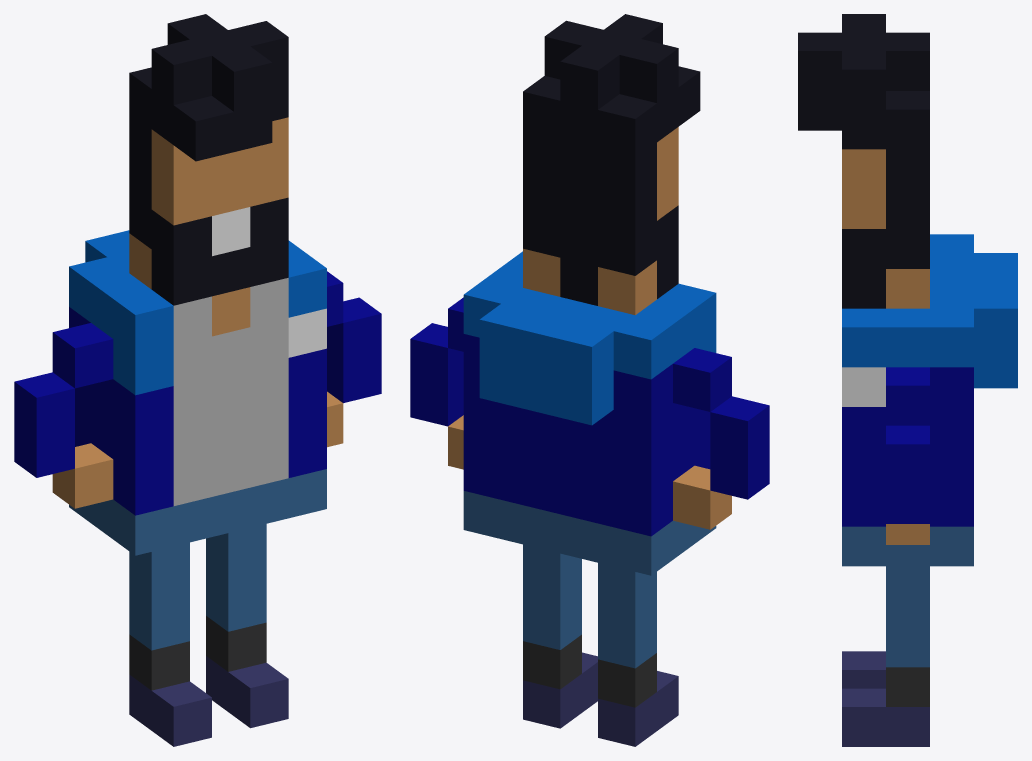
3 views of the same model, side by side, from view 1: azimuth 30°, elevation 25°; view 2: azimuth 150°, elevation 25°; view 3: azimuth 270°, elevation 25° (orthographic). The views are drawn at different scales.
Visible parts, largest first — view 1: Nikki.001; view 2: Nikki.001; view 3: Nikki.001.
Part boxes in pixels (bbox=[...]): Nikki.001: bbox=[14, 14, 381, 746]; Nikki.001: bbox=[410, 14, 769, 746]; Nikki.001: bbox=[798, 14, 1017, 746].
Size of the model in its own units: 0.5625 by 1.06 by 0.3125.
